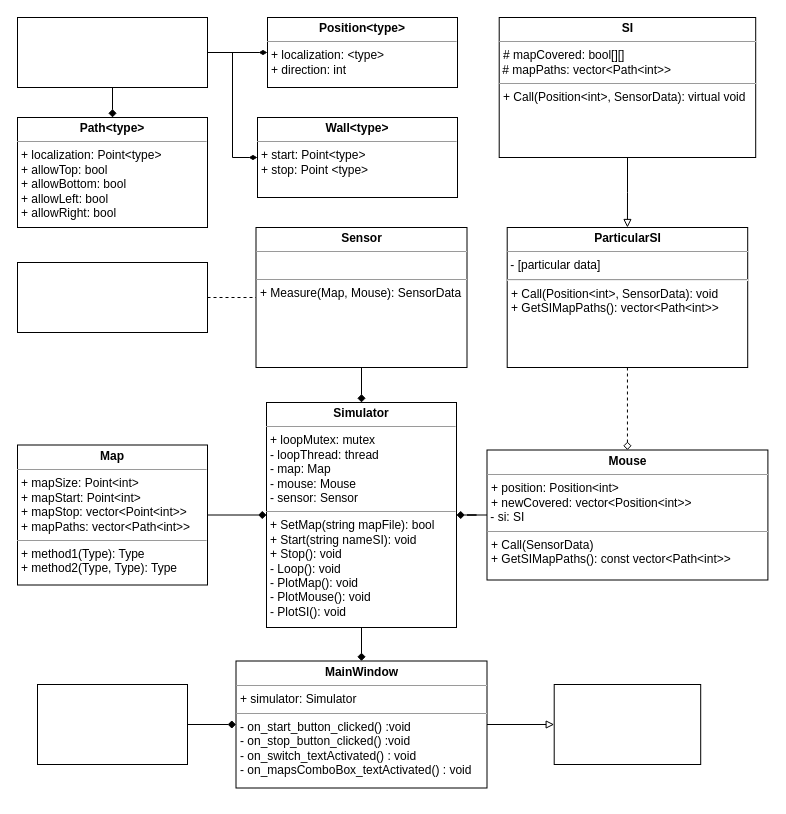
This 786x814 diagram has some shape labels left out. The centre of each missing label's shape, as x and y in pixels:
Point<type> + x: <type> + y: <type>: pixel 112 52
QCustomPlot: pixel 112 724
QMainwindow: pixel 627 724
SensorData + wallDetected:bool: pixel 112 297
